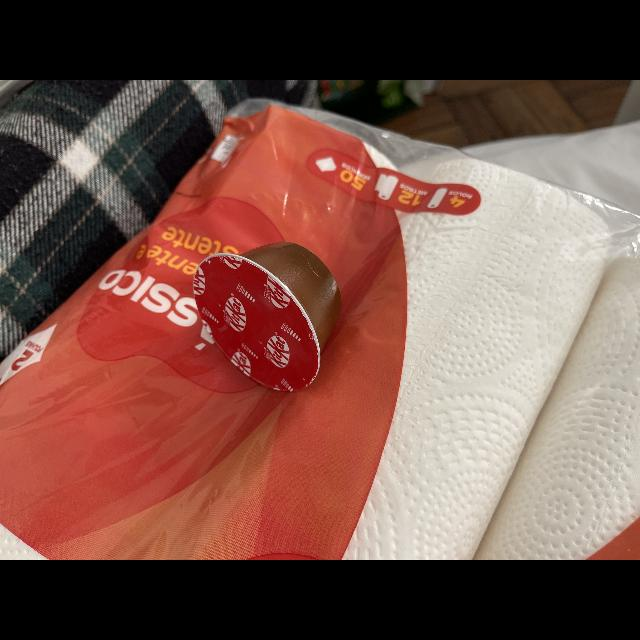intact_capsule: (188, 236, 352, 412)
